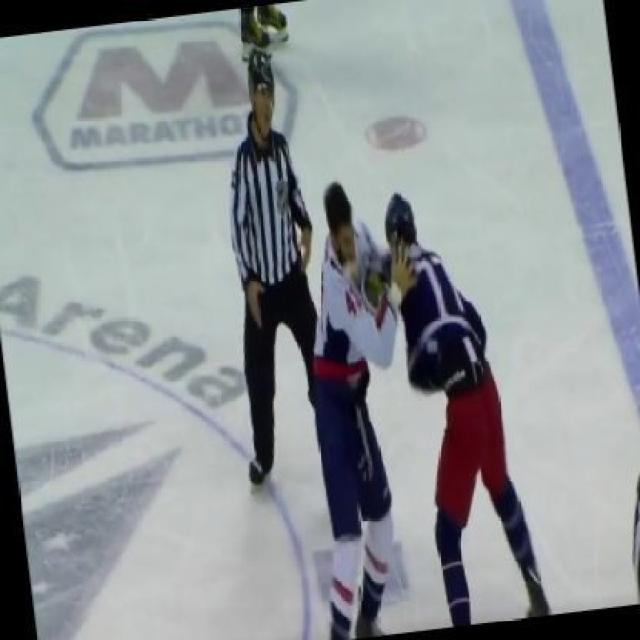fight: (305, 180, 549, 640)
non-fight: (230, 61, 318, 481)
